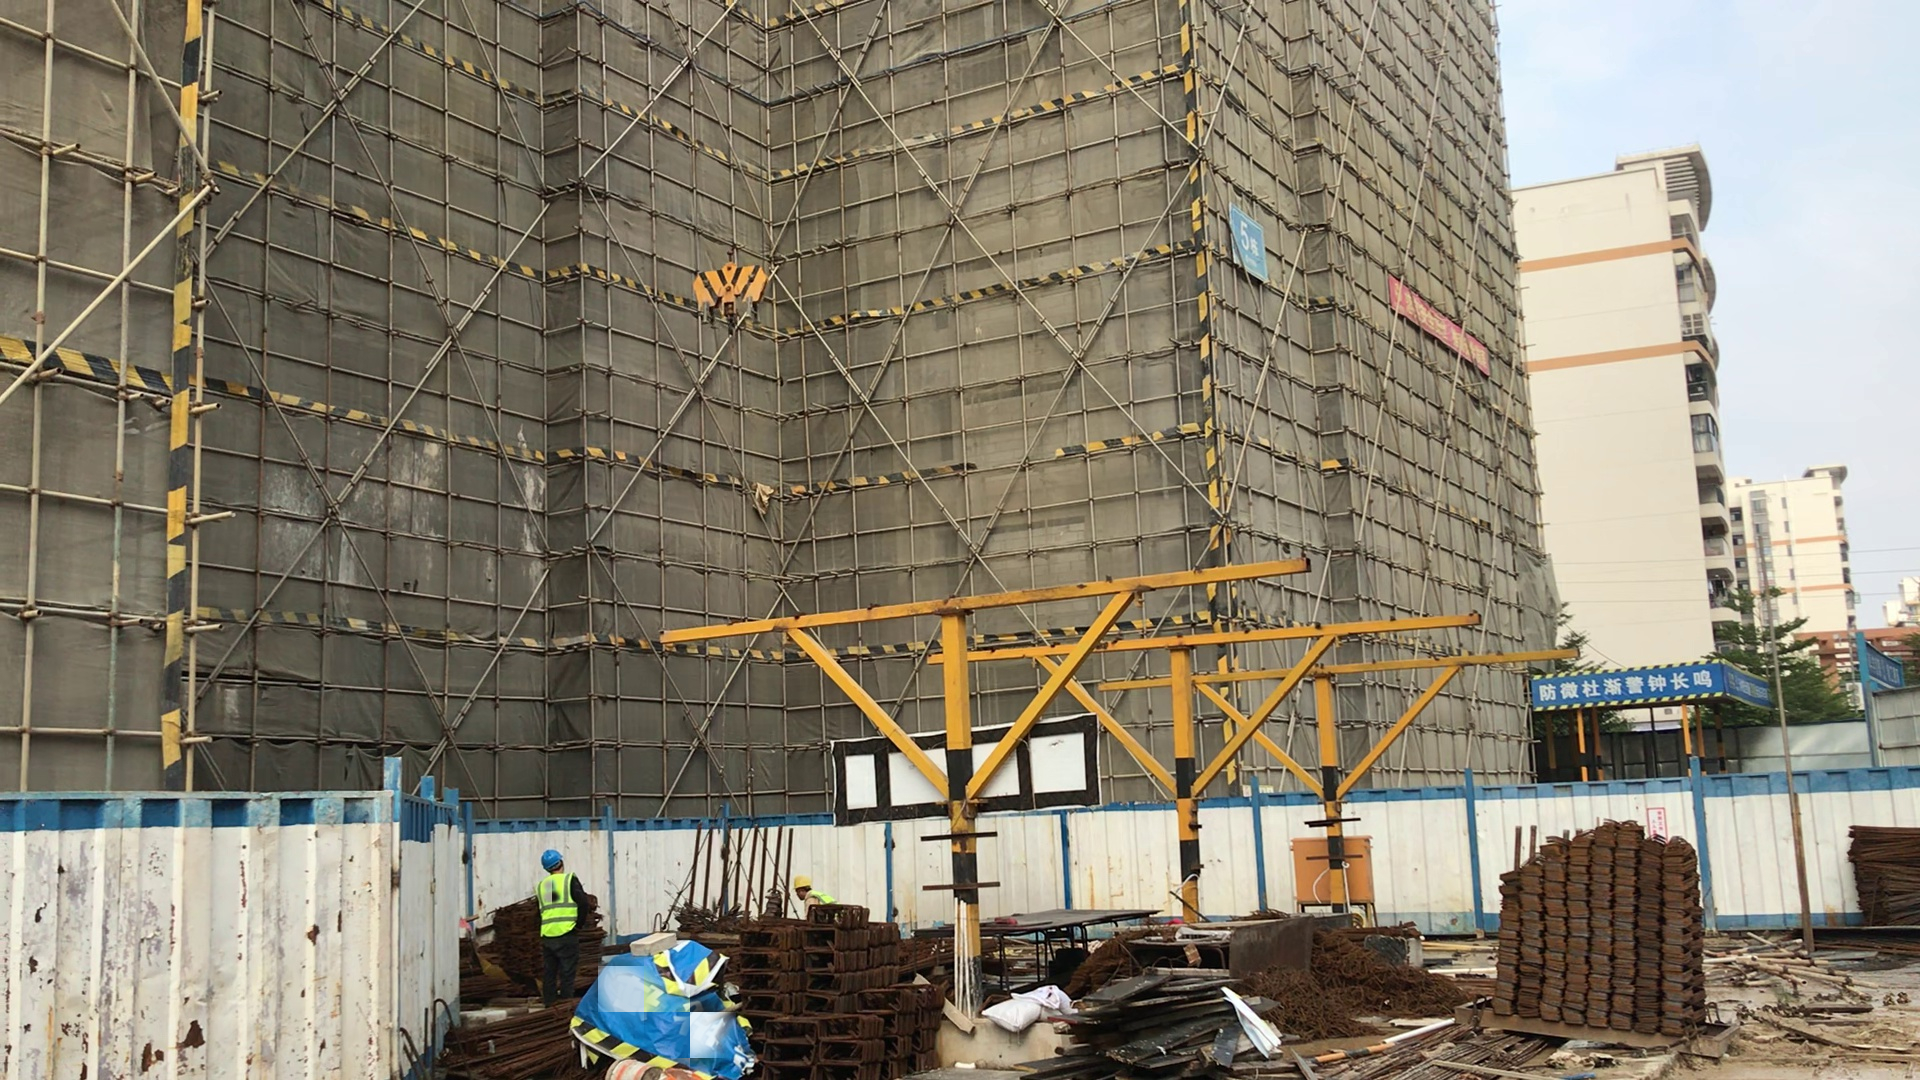helmet: (534, 848, 570, 870), (789, 873, 818, 893)
hook: (682, 239, 789, 332)
person: (531, 847, 600, 998), (781, 872, 849, 918)
rebar: (1843, 804, 1910, 966), (425, 1000, 555, 1080)
slogan: (1529, 644, 1750, 707), (1385, 270, 1502, 370)
vest: (539, 870, 582, 941), (804, 890, 840, 911)
